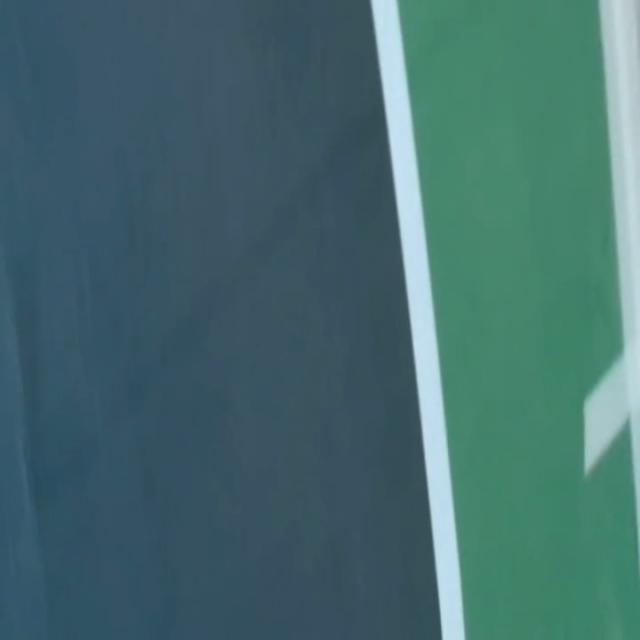right: (371, 0, 465, 639)
